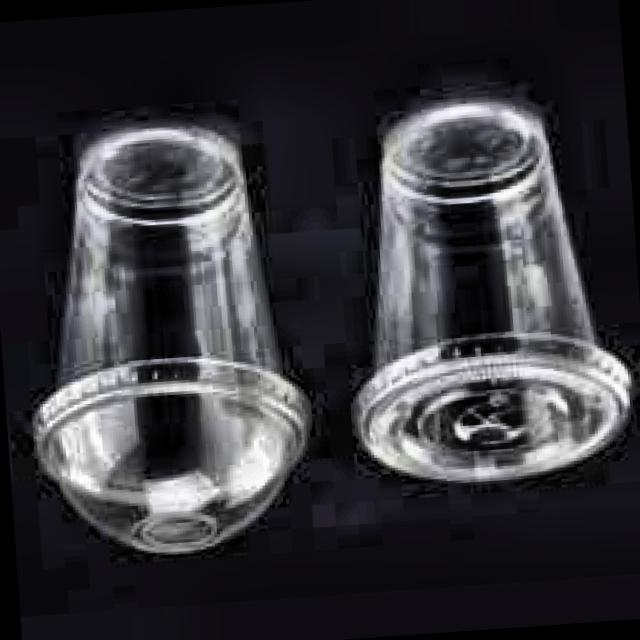plastic cup: (32, 126, 308, 552), (353, 102, 631, 480)
